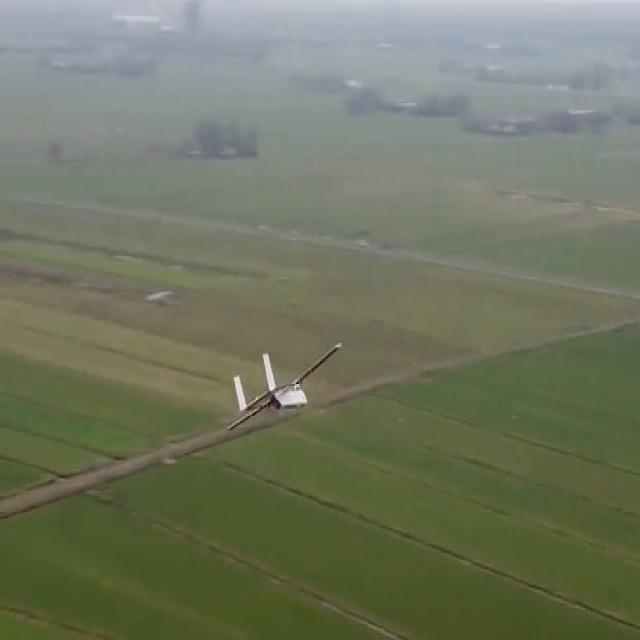iha: (255, 355, 313, 406)
